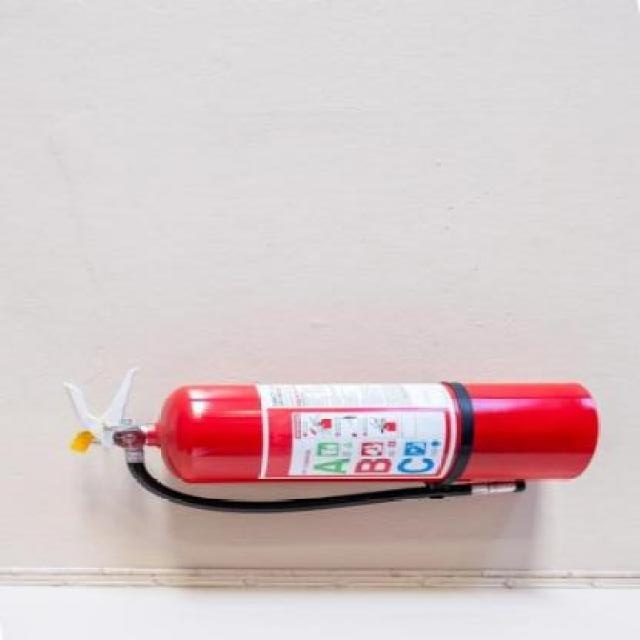fire extinguisher: (63, 365, 600, 515)
